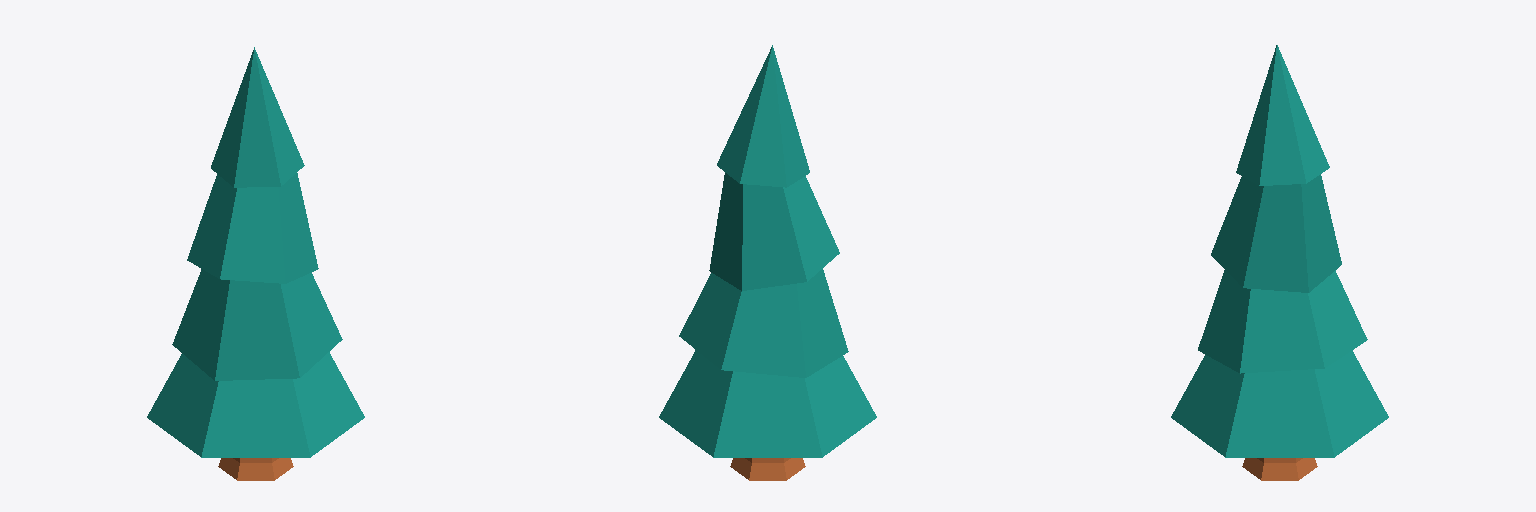
Rendered from treePine.obj.
3 views of the same model, side by side, from view 1: azimuth 30°, elevation 25°; view 2: azimuth 150°, elevation 25°; view 3: azimuth 270°, elevation 25° (orthographic).
Parts seen in each view (by area): view 1: treePine; view 2: treePine; view 3: treePine.
Part boxes in pixels (left/top/right/bottom): treePine: left=147, top=47, right=364, bottom=480; treePine: left=659, top=45, right=876, bottom=480; treePine: left=1171, top=45, right=1388, bottom=480.
Bounding box in the file's own units: 0.651 × 1.6 × 0.7517.